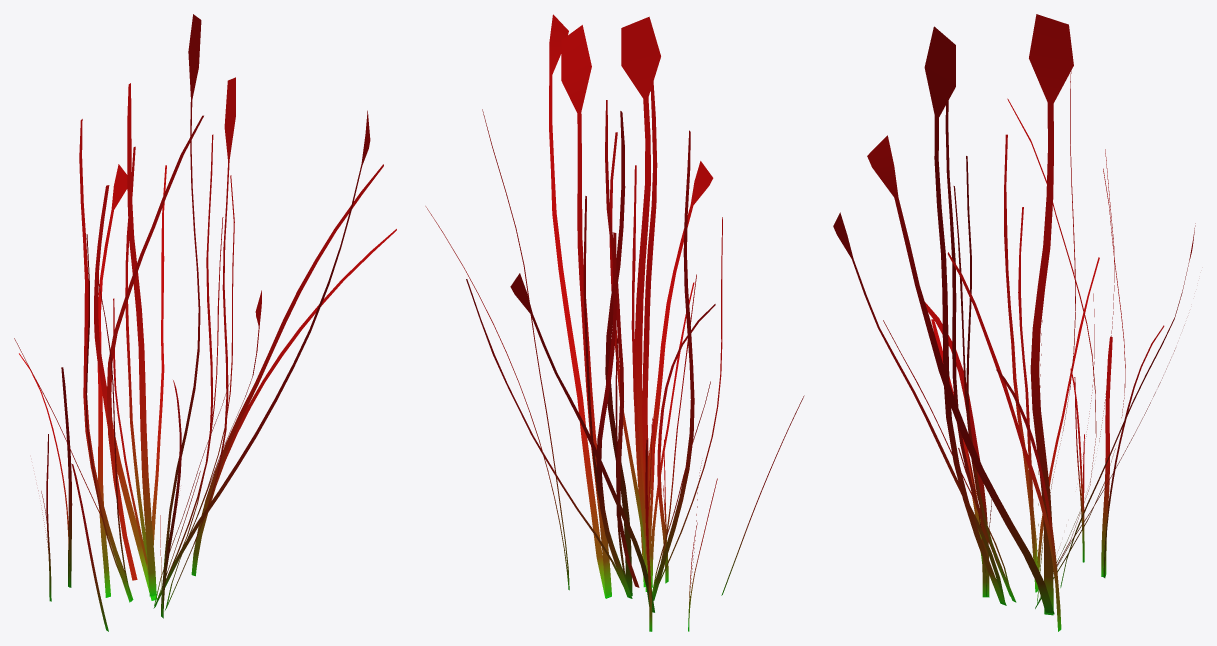
Rendered from Softstem Bulrush_LOD1_Var2_uehjcafia.fbx.
3 renders of one model, left to right at view 1: azimuth 30°, elevation 25°; view 2: azimuth 150°, elevation 25°; view 3: azimuth 270°, elevation 25°, orthographic. The views are drawn at different scales.
Parts seen in each view (by area): view 1: _5381_Var2_LOD1; view 2: _5381_Var2_LOD1; view 3: _5381_Var2_LOD1.
Boxes of the visible parts, <box> form: _5381_Var2_LOD1: <box>14,14,396,631</box>; _5381_Var2_LOD1: <box>425,14,804,631</box>; _5381_Var2_LOD1: <box>833,14,1195,631</box>.
Bounding box in the file's own units: 64.25 × 98.62 × 53.3.
